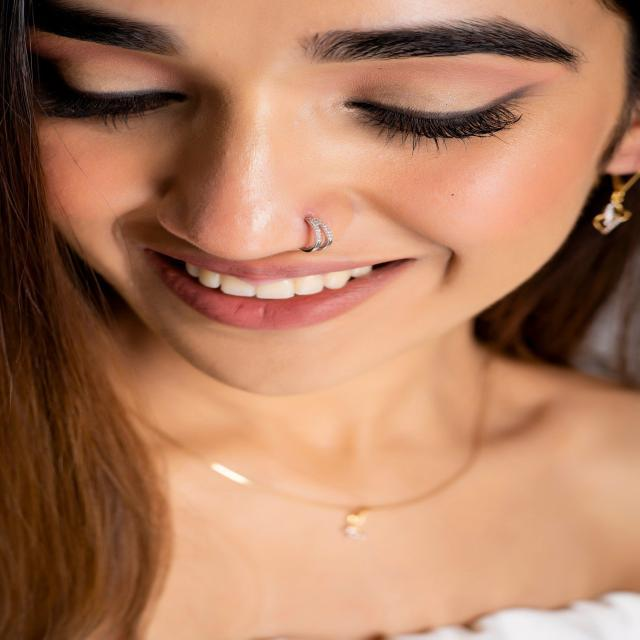Earring: (586, 161, 640, 245)
